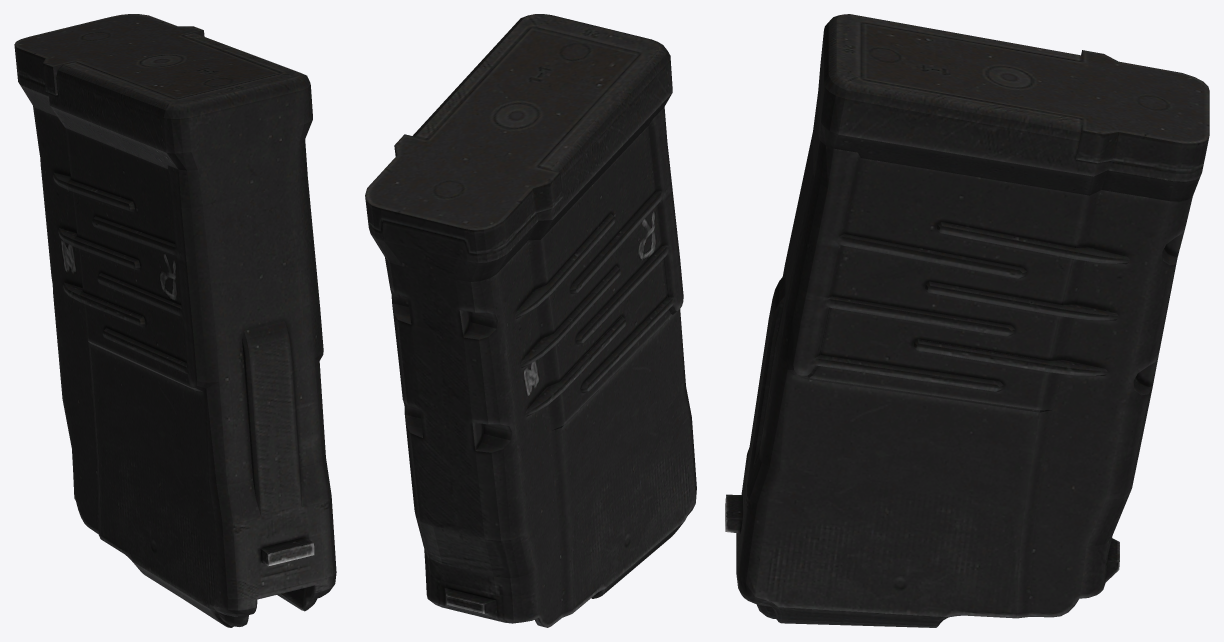
3 views of the same model, side by side, from view 1: azimuth 30°, elevation 25°; view 2: azimuth 150°, elevation 25°; view 3: azimuth 270°, elevation 25° (orthographic). The views are drawn at different scales.
Parts seen in each view (by area): view 1: TW_57838f0b2459774a256959b2_PZ_Import; view 2: TW_57838f0b2459774a256959b2_PZ_Import; view 3: TW_57838f0b2459774a256959b2_PZ_Import.
Part boxes in pixels (box(x1,y1,x2,y2)): TW_57838f0b2459774a256959b2_PZ_Import: box(14, 14, 336, 627); TW_57838f0b2459774a256959b2_PZ_Import: box(365, 14, 696, 627); TW_57838f0b2459774a256959b2_PZ_Import: box(725, 14, 1209, 627).
Size of the model in its own units: 0.0194 by 0.0492 by 0.063.
Materials: 1 (1 with a texture image).
